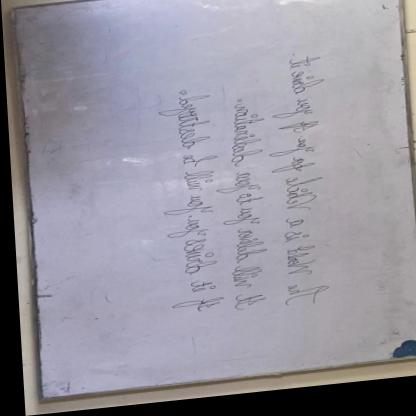Handwritten text: (263, 60, 340, 315), (147, 96, 221, 319), (208, 106, 272, 318)
